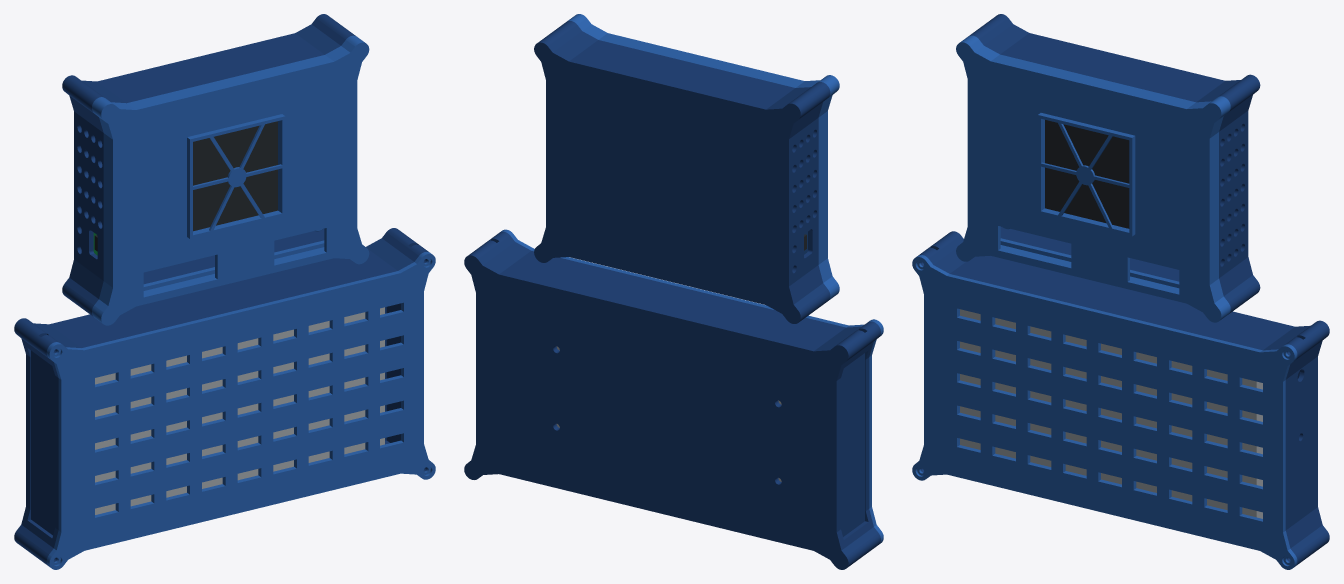
The model's file is .enclosure_fit_check.step.glb.
3 views of the same model, side by side, from view 1: azimuth 30°, elevation 25°; view 2: azimuth 150°, elevation 25°; view 3: azimuth 330°, elevation 25° (orthographic).
Visible parts, largest first — view 1: o1.3, o1.6, o1.1, o1.4, o1.2, o1.5.3, o1.11, o1.5.2; view 2: o1.1, o1.4, o1.6, o1.3; view 3: o1.3, o1.6, o1.1, o1.4, o1.2, o1.5.3, o1.11, o1.5.2.
Boxes of the visible parts, x1,y1,x2,y2 form: o1.3: [46, 252, 435, 569]; o1.6: [92, 35, 369, 325]; o1.1: [14, 228, 428, 565]; o1.4: [62, 14, 355, 316]; o1.2: [95, 307, 384, 514]; o1.5.3: [193, 122, 272, 225]; o1.11: [187, 114, 285, 238]; o1.5.2: [193, 121, 277, 231]; o1.1: [464, 231, 880, 569]; o1.4: [534, 21, 830, 323]; o1.6: [567, 14, 839, 300]; o1.3: [501, 229, 883, 544]; o1.3: [912, 255, 1297, 569]; o1.6: [956, 35, 1230, 322]; o1.1: [918, 231, 1329, 565]; o1.4: [969, 14, 1260, 314]; o1.2: [960, 309, 1262, 518]; o1.5.3: [1050, 121, 1129, 222]; o1.11: [1038, 113, 1135, 236]; o1.5.2: [1045, 120, 1129, 228].
Size of the model in its own units: 0.2599 by 0.2936 by 0.0492.
